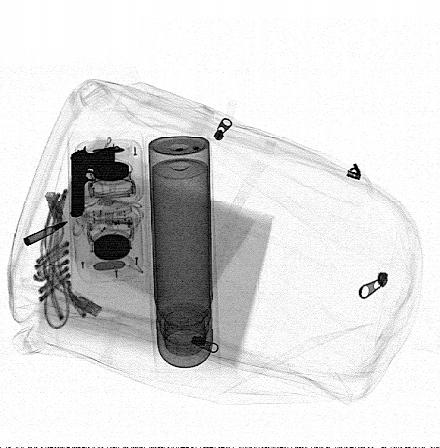Bullet: (23, 220, 67, 246)
Gun: (70, 148, 116, 216)
